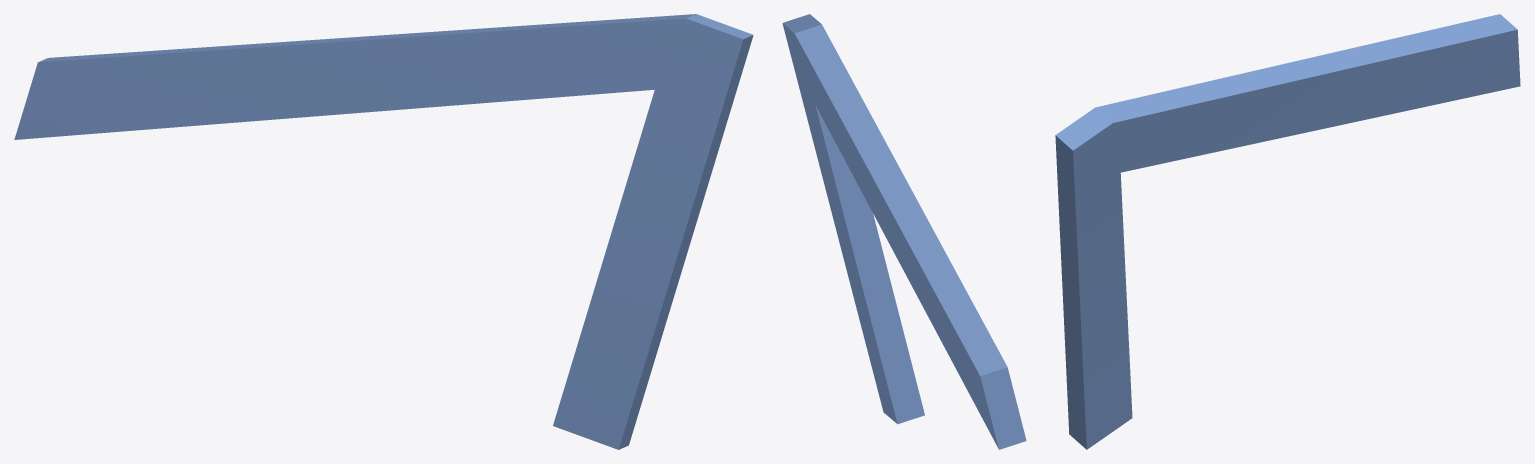
The model's file is New_Number_7.gltf.
3 renders of one model, left to right at view 1: azimuth 30°, elevation 25°; view 2: azimuth 150°, elevation 25°; view 3: azimuth 270°, elevation 25°, orthographic. The views are drawn at different scales.
Parts seen in each view (by area): view 1: Part 394; view 2: Part 394; view 3: Part 394.
Boxes of the visible parts, x1,y1,x2,y2 form: Part 394: [14, 14, 753, 449]; Part 394: [782, 14, 1026, 449]; Part 394: [1055, 14, 1520, 449].
Size of the model in its own units: 0.00473 by 0.00368 by 0.0042.
